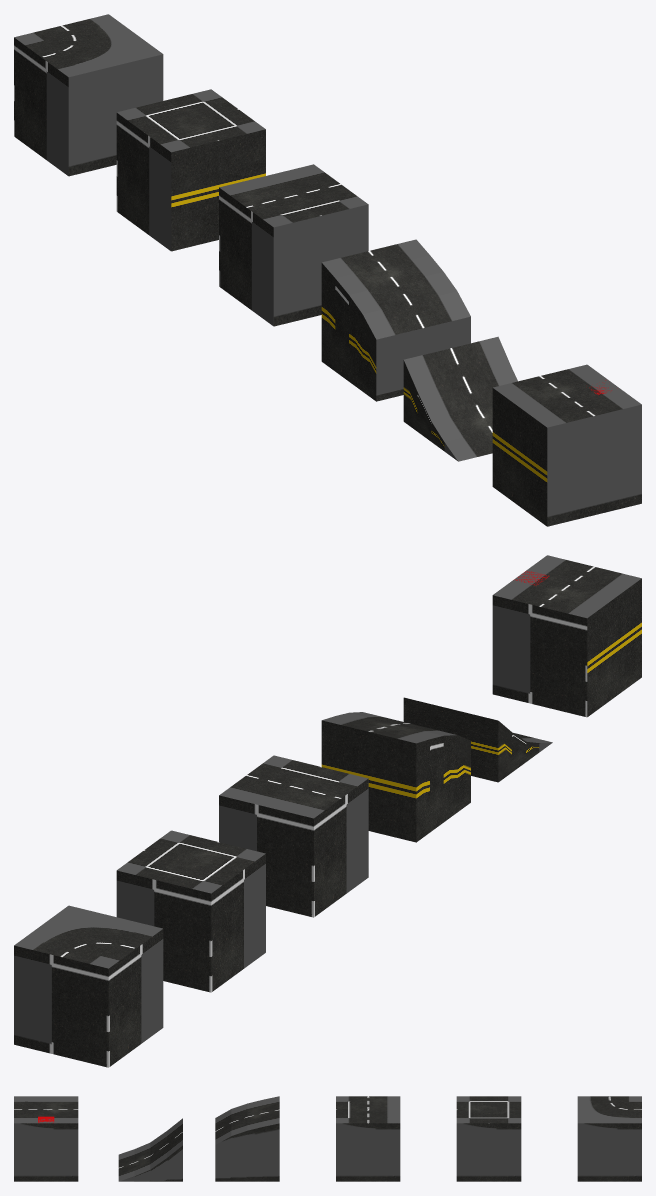
Rendered from roads-v4.glb.
3 renders of one model, top to bottom at view 1: azimuth 30°, elevation 25°; view 2: azimuth 150°, elevation 25°; view 3: azimuth 270°, elevation 25°, orthographic. The views are drawn at different scales.
Parts seen in each view (by area): view 1: RoadFlat, RoadTurn, Road3Way, Road4Way, RoadUp2, RoadUp1; view 2: RoadFlat, RoadTurn, Road3Way, Road4Way, RoadUp2, RoadUp1; view 3: Road4Way, Road3Way, RoadTurn, RoadFlat, RoadUp2, RoadUp1.
Boxes of the visible parts, box(x1,y1,x2,y2) form: RoadFlat: box(492, 364, 641, 526); RoadTurn: box(14, 14, 163, 176); Road3Way: box(219, 164, 368, 326); Road4Way: box(116, 89, 265, 251); RoadUp2: box(321, 239, 470, 401); RoadUp1: box(403, 336, 517, 461); RoadFlat: box(492, 555, 641, 717); RoadTurn: box(14, 905, 163, 1067); Road3Way: box(219, 755, 368, 917); Road4Way: box(116, 830, 265, 992); RoadUp2: box(321, 712, 470, 842); RoadUp1: box(403, 697, 552, 782); Road4Way: box(456, 1096, 521, 1181); Road3Way: box(336, 1096, 400, 1181); RoadTurn: box(577, 1096, 641, 1181); RoadFlat: box(14, 1096, 78, 1181); RoadUp2: box(215, 1096, 279, 1181); RoadUp1: box(118, 1118, 182, 1181).
Size of what is drawn, in the model's own units: 16 by 16 by 156.
Materials: 8 (7 with a texture image).
